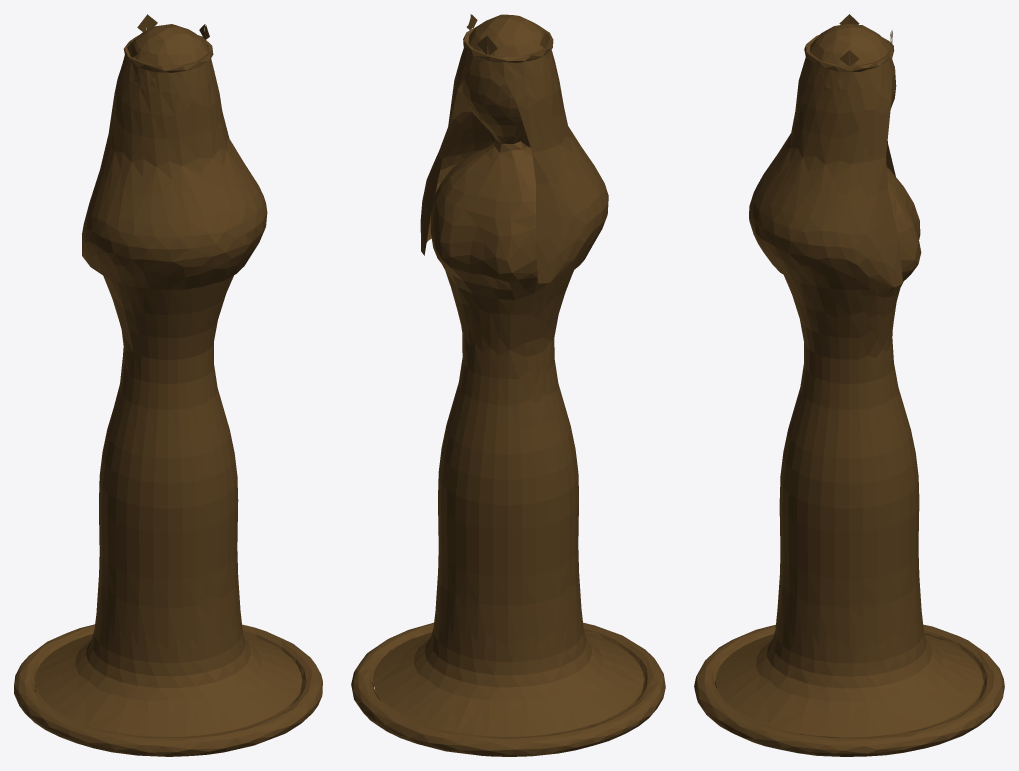
File: dama3K.obj
The picture shows the model from 3 angles, left to right: view 1: azimuth 30°, elevation 25°; view 2: azimuth 150°, elevation 25°; view 3: azimuth 270°, elevation 25°; orthographic projection.
Size of the model in its own units: 1.68 by 4 by 1.69.
